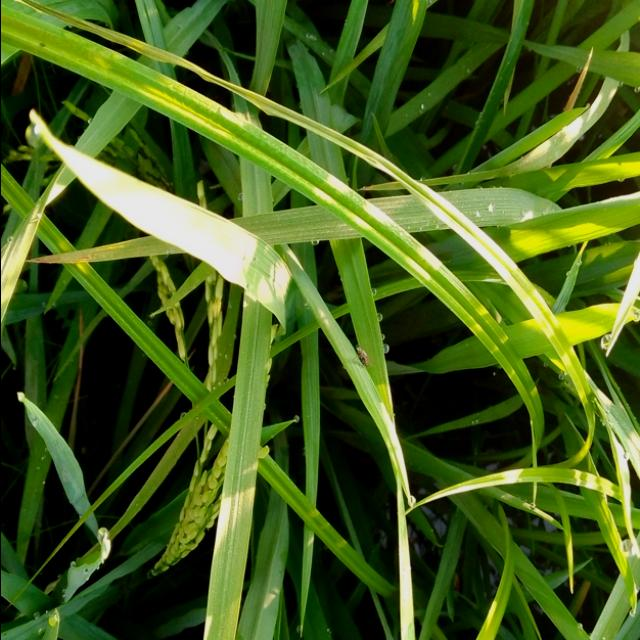Leaf scald: (344, 339, 382, 376)
